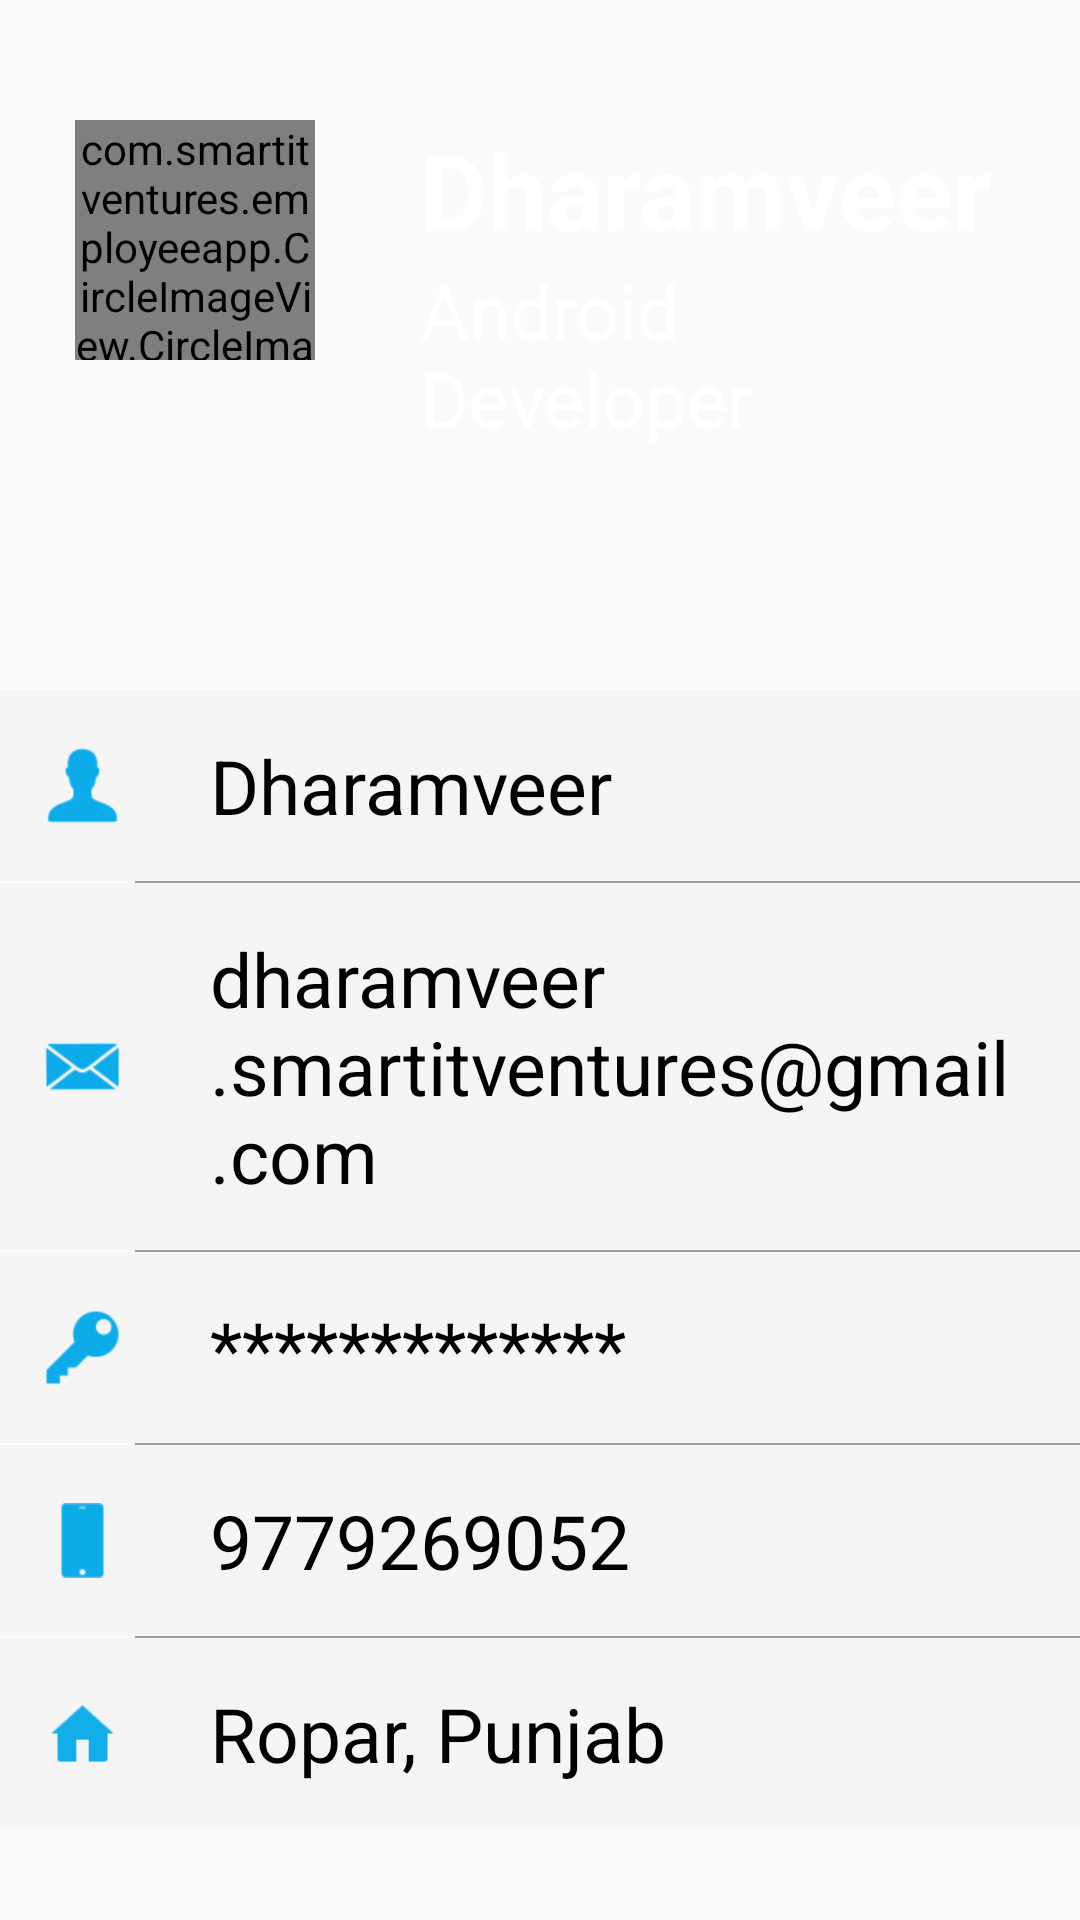

Screen size 1080 × 1920. Icon name, then its box in pixels as (x1, y1, x2, y2):
address: (51, 1705, 114, 1762)
key: (46, 1311, 119, 1384)
male: (47, 748, 118, 823)
mobile: (61, 1503, 104, 1578)
